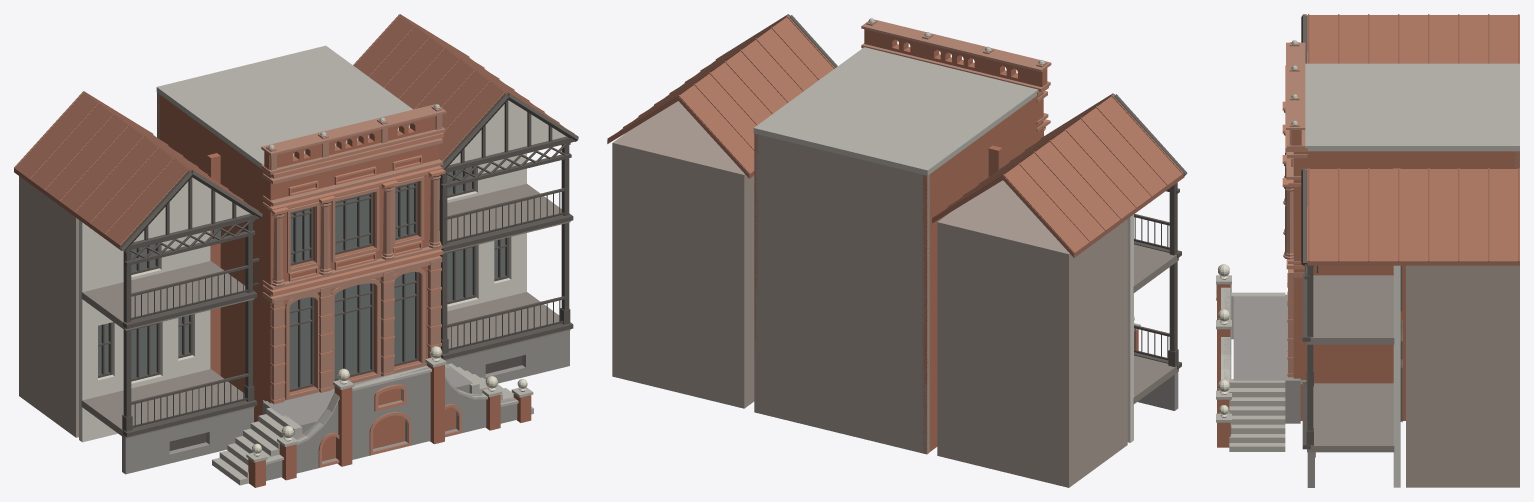
File: jingan-dasheng-drummond-residence-lod.glb
3 renders of one model, left to right at view 1: azimuth 30°, elevation 25°; view 2: azimuth 150°, elevation 25°; view 3: azimuth 270°, elevation 25°, orthographic. The views are drawn at different scales.
Parts seen in each view (by area): view 1: 大胜胡同德莱蒙德住宅南向花园立面; view 2: 大胜胡同德莱蒙德住宅南向花园立面; view 3: 大胜胡同德莱蒙德住宅南向花园立面.
Boxes of the visible parts, bbox=[...] form: 大胜胡同德莱蒙德住宅南向花园立面: bbox=[14, 14, 578, 487]; 大胜胡同德莱蒙德住宅南向花园立面: bbox=[607, 14, 1187, 487]; 大胜胡同德莱蒙德住宅南向花园立面: bbox=[1216, 14, 1519, 487].
Bounding box in the file's own units: 16.65 × 10.46 × 9.6.
